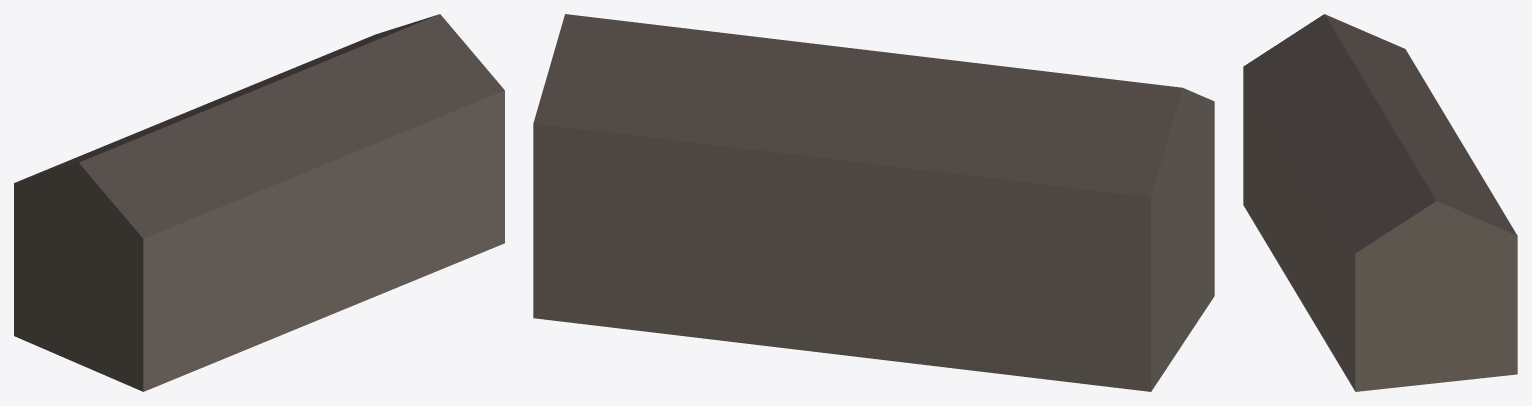
3 views of the same model, side by side, from view 1: azimuth 30°, elevation 25°; view 2: azimuth 150°, elevation 25°; view 3: azimuth 270°, elevation 25° (orthographic). The views are drawn at different scales.
Visible parts, largest first — view 1: HP-w859424229; view 2: HP-w859424229; view 3: HP-w859424229.
Boxes of the visible parts, box(x1,y1,x2,y2) form: HP-w859424229: box(14, 14, 504, 391); HP-w859424229: box(533, 14, 1214, 391); HP-w859424229: box(1243, 14, 1517, 391).
Bounding box in the file's own units: 28.52 × 11.85 × 16.17.
